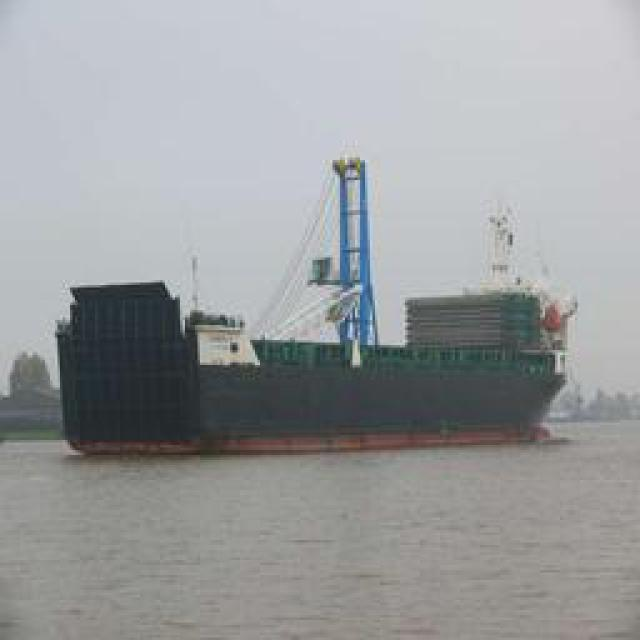Ship: (44, 155, 583, 464)
